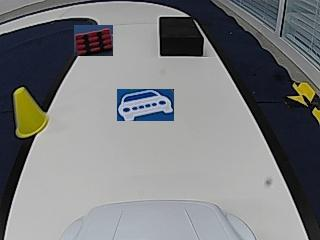block: (159, 16, 203, 56)
cone: (14, 87, 49, 137)
